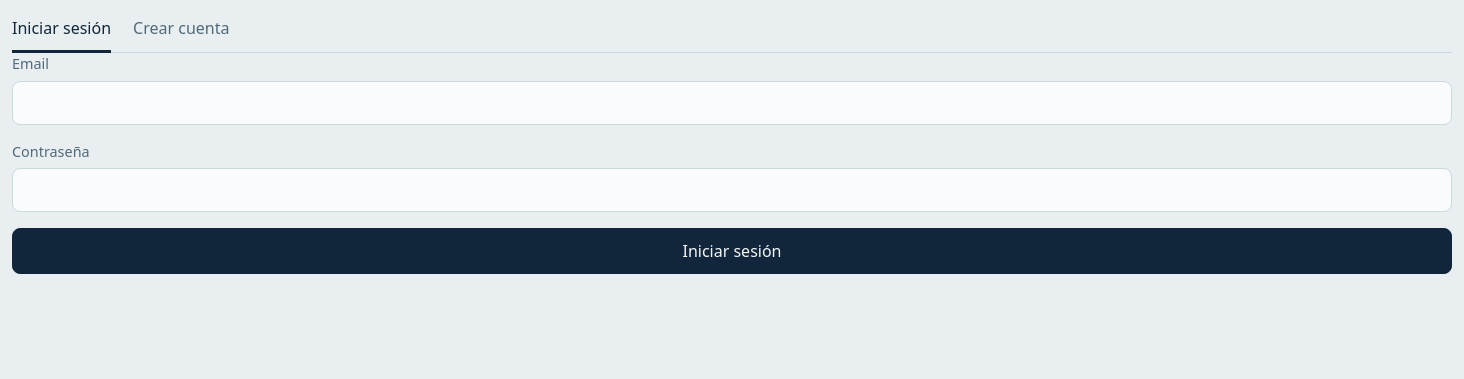
Test: LoginForm › should create an account successfully
Click the button "Crear cuenta": point(181, 30) [133,6,229,53]
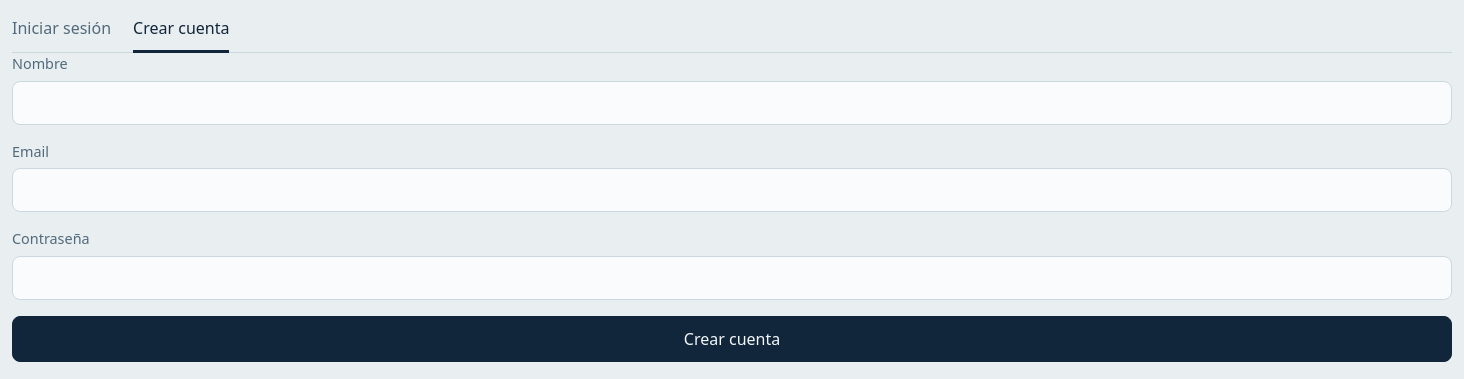
In the field labelled "Nombre": point(732, 103) [12,81,1452,125], type "Jaime"
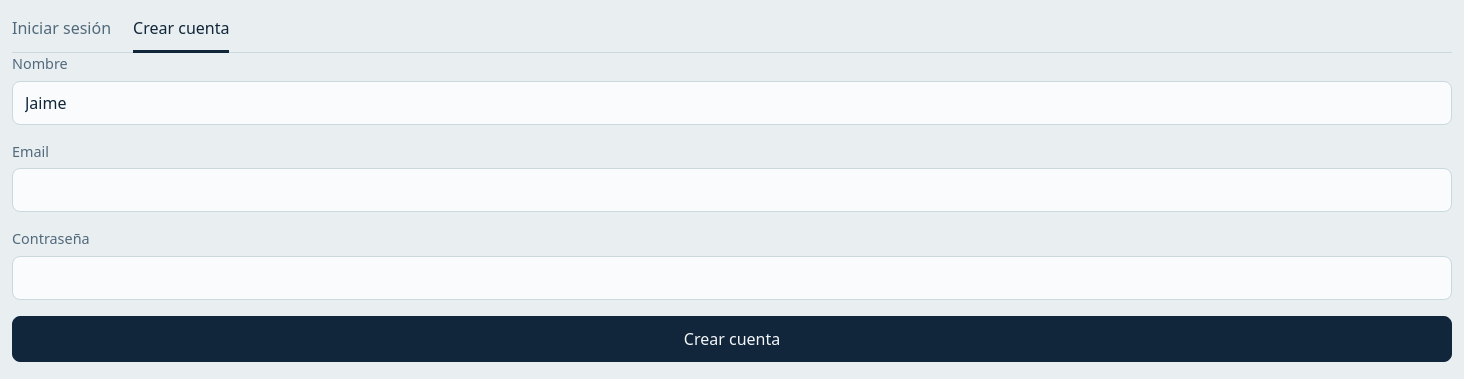
In the field labelled "Email": point(732, 190) [12,168,1452,212], type "jaime@email.com"
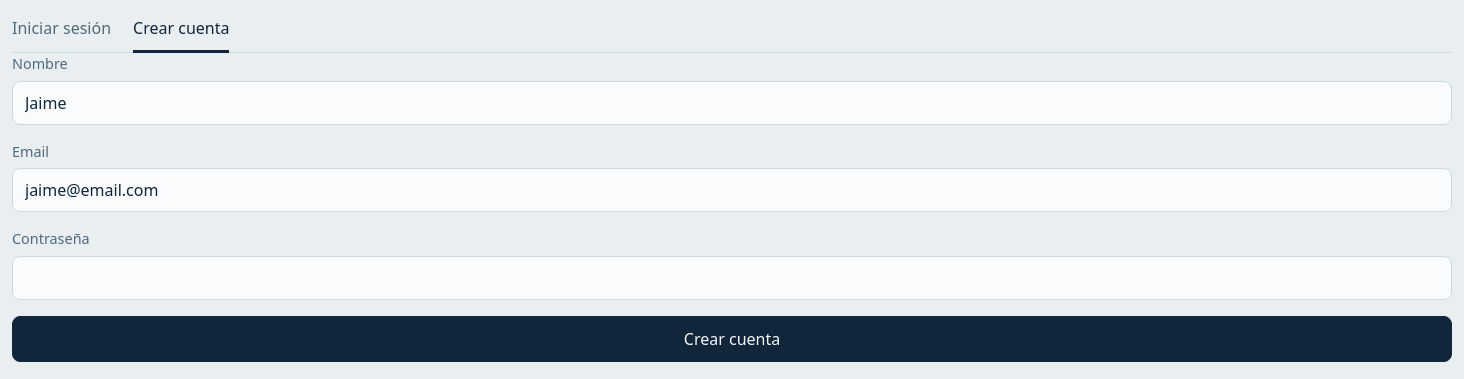
In the password field labelled "Contraseña": point(732, 278) [12,256,1452,300], type "password123"
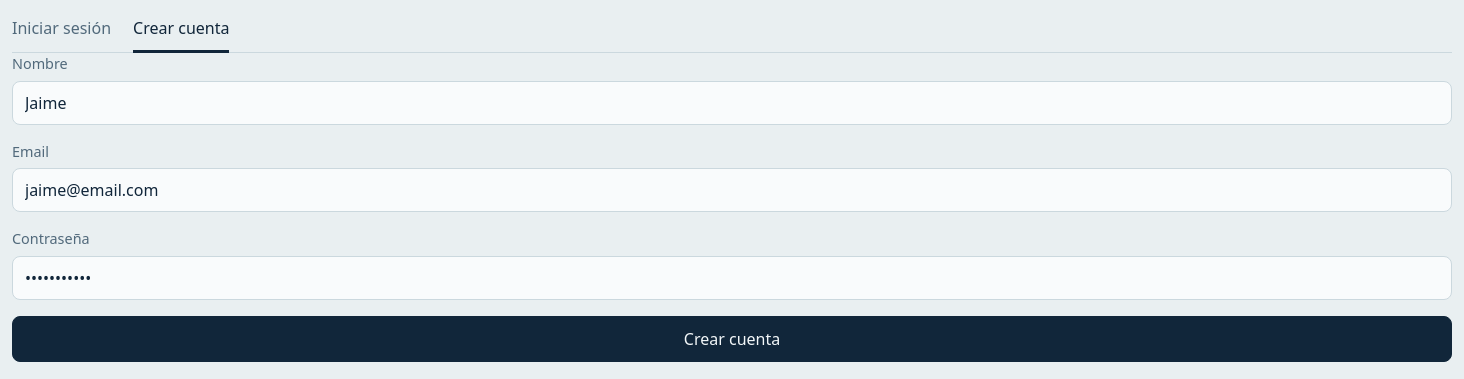
Click the button "Crear cuenta" below "Contraseña": point(732, 339) [12,316,1452,362]
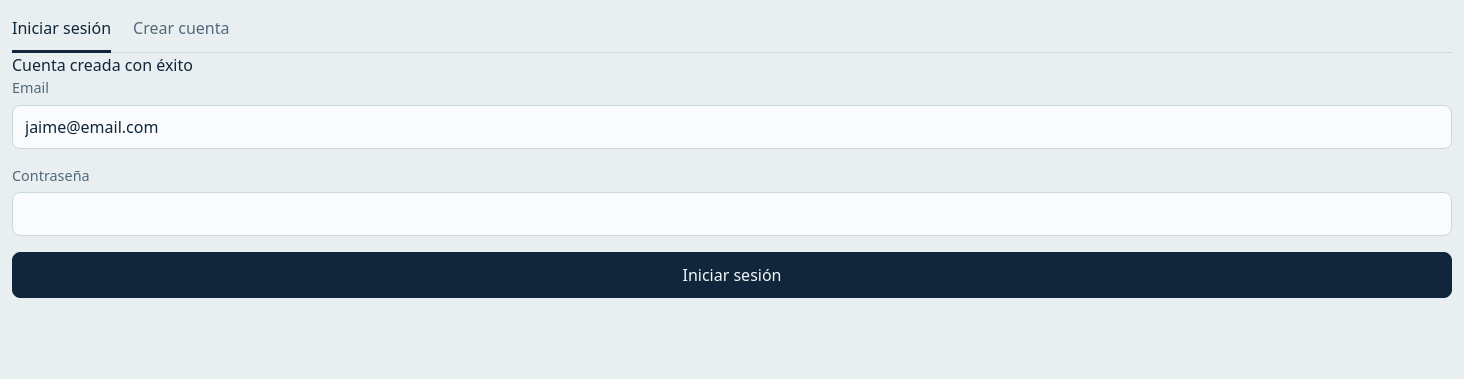
Check: the text "Cuenta creada con éxito" is shown, box [12,54,193,76]
